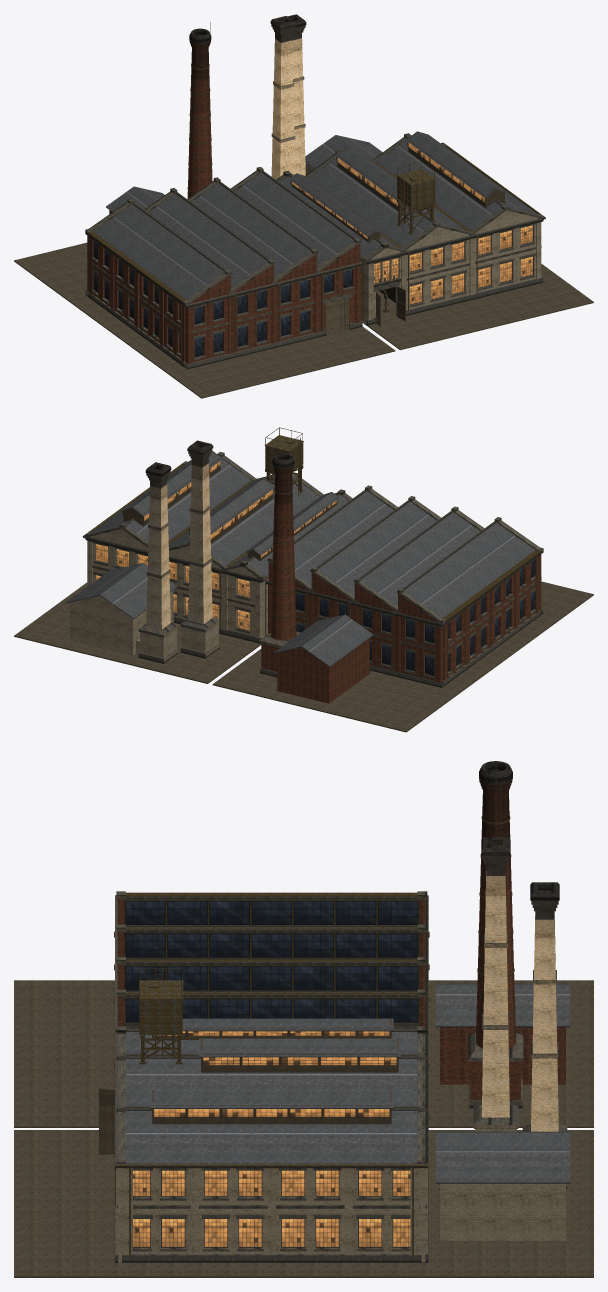
File: works-set-factories.glb
3 renders of one model, top to bottom at view 1: azimuth 30°, elevation 25°; view 2: azimuth 150°, elevation 25°; view 3: azimuth 270°, elevation 25°, orthographic. The views are drawn at different scales.
Parts seen in each view (by area): view 1: no-1-mill-roof, no-2-mill-roof, no-1-mill-walls, no-1-yard-setts, no-1-mill-stonework, no-2-yard-setts, no-2-mill-walls, no-2-mill-stonework, no-1-chimney, no-2-chimney-a, no-2-chimney-b, no-2-mill-ironwork (+6 smaller); view 2: no-1-mill-roof, no-1-yard-setts, no-2-mill-roof, no-1-mill-walls, no-1-boiler-house-building, no-1-mill-stonework, no-2-boiler-house-building, no-2-chimney-a, no-2-yard-setts, no-2-chimney-b, no-1-chimney, no-2-mill-walls (+6 smaller); view 3: no-2-mill-roof, no-2-yard-setts, no-1-yard-setts, no-2-boiler-house-building, no-2-mill-walls, no-2-mill-stonework, no-2-chimney-a, no-1-mill-roof, no-1-mill-ironwork, no-1-chimney, no-2-chimney-b, no-1-boiler-house-building (+42 smaller).
Boxes of the visible parts, bbox=[...] form: no-1-mill-roof: bbox=[93, 171, 355, 299]; no-2-mill-roof: bbox=[279, 131, 537, 257]; no-1-mill-walls: bbox=[87, 236, 360, 363]; no-1-yard-setts: bbox=[14, 242, 395, 398]; no-1-mill-stonework: bbox=[85, 167, 362, 369]; no-2-yard-setts: bbox=[361, 263, 593, 350]; no-2-mill-walls: bbox=[360, 210, 541, 322]; no-2-mill-stonework: bbox=[276, 133, 543, 325]; no-1-chimney: bbox=[187, 22, 212, 198]; no-2-chimney-a: bbox=[270, 16, 296, 179]; no-2-chimney-b: bbox=[288, 14, 306, 175]; no-2-mill-ironwork: bbox=[290, 135, 545, 320]; no-1-mill-roof: bbox=[294, 489, 535, 618]; no-1-yard-setts: bbox=[212, 581, 593, 732]; no-2-mill-roof: bbox=[91, 451, 348, 576]; no-1-mill-walls: bbox=[268, 554, 541, 682]; no-1-boiler-house-building: bbox=[274, 614, 373, 703]; no-1-mill-stonework: bbox=[266, 485, 543, 687]; no-2-boiler-house-building: bbox=[66, 563, 176, 655]; no-2-chimney-a: bbox=[180, 440, 219, 658]; no-2-yard-setts: bbox=[14, 582, 261, 683]; no-2-chimney-b: bbox=[138, 462, 178, 663]; no-1-chimney: bbox=[259, 446, 300, 677]; no-2-mill-walls: bbox=[87, 529, 268, 638]; no-2-mill-roof: bbox=[125, 1018, 417, 1163]; no-2-yard-setts: bbox=[14, 1130, 593, 1277]; no-1-yard-setts: bbox=[14, 980, 593, 1127]; no-2-boiler-house-building: bbox=[435, 1131, 570, 1240]; no-2-mill-walls: bbox=[115, 1168, 427, 1261]; no-2-mill-stonework: bbox=[114, 1026, 428, 1262]; no-2-chimney-a: bbox=[473, 837, 518, 1131]; no-1-mill-roof: bbox=[124, 896, 418, 1026]; no-1-mill-ironwork: bbox=[114, 892, 429, 1023]; no-1-chimney: bbox=[468, 761, 523, 1108]; no-2-chimney-b: bbox=[522, 882, 567, 1188]; no-1-boiler-house-building: bbox=[435, 983, 570, 1084].
Bounding box in the file's own units: 50 × 27.1 × 41.4.
Materials: 50 (39 with a texture image).
